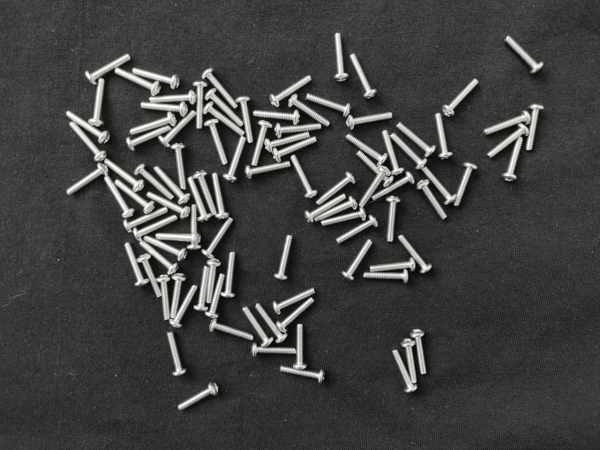longscrew: (502, 34, 546, 76), (67, 120, 109, 162), (204, 87, 245, 129), (441, 77, 481, 120), (200, 67, 239, 111), (84, 51, 133, 86), (485, 123, 530, 161), (64, 109, 111, 145), (133, 162, 175, 202), (201, 101, 246, 138), (287, 93, 333, 129), (354, 148, 395, 188), (151, 164, 191, 205), (269, 73, 314, 109), (388, 131, 428, 171), (419, 165, 458, 206), (394, 120, 436, 158), (137, 239, 180, 276), (174, 381, 222, 414), (357, 164, 392, 209), (65, 163, 110, 198), (200, 215, 234, 261), (343, 133, 389, 167), (396, 234, 434, 275), (112, 178, 155, 214), (102, 157, 145, 193), (101, 174, 135, 219), (158, 109, 196, 149), (334, 214, 380, 247), (315, 171, 357, 207), (481, 109, 533, 138), (112, 67, 162, 97), (240, 305, 274, 349), (341, 238, 374, 283), (303, 193, 348, 226), (276, 297, 316, 334), (370, 171, 416, 203), (348, 52, 378, 101), (416, 178, 449, 222), (270, 134, 318, 164), (253, 302, 287, 344), (133, 214, 180, 244), (271, 286, 316, 317), (125, 124, 173, 153), (122, 206, 170, 235), (451, 161, 479, 210), (121, 242, 150, 289), (389, 348, 418, 395), (312, 195, 359, 224), (145, 191, 192, 220), (185, 175, 213, 223), (288, 153, 317, 199), (303, 92, 354, 118), (170, 283, 198, 330), (142, 235, 189, 263), (207, 317, 255, 344), (191, 169, 218, 217), (379, 128, 405, 177), (135, 252, 162, 299), (500, 135, 525, 185), (223, 135, 248, 185), (128, 112, 177, 137), (131, 67, 182, 91), (203, 118, 228, 166), (164, 329, 188, 378), (249, 119, 273, 168), (345, 110, 395, 133), (263, 131, 310, 155), (272, 233, 294, 284), (320, 205, 368, 228), (433, 112, 455, 162), (204, 272, 226, 321), (524, 102, 545, 153), (277, 365, 327, 386), (235, 94, 255, 145), (244, 160, 292, 181), (332, 31, 351, 84), (250, 108, 303, 127), (210, 171, 230, 221), (409, 329, 430, 376), (167, 272, 187, 320), (169, 142, 189, 190), (88, 78, 106, 130), (400, 337, 419, 385), (193, 265, 211, 315), (273, 122, 323, 140), (154, 274, 173, 321), (367, 257, 417, 274), (384, 195, 401, 245), (191, 80, 208, 130), (138, 100, 188, 117), (220, 251, 237, 300), (250, 343, 299, 360), (362, 269, 411, 286), (186, 203, 202, 253), (292, 323, 308, 373), (147, 89, 197, 105), (205, 258, 222, 305), (154, 231, 202, 247)
